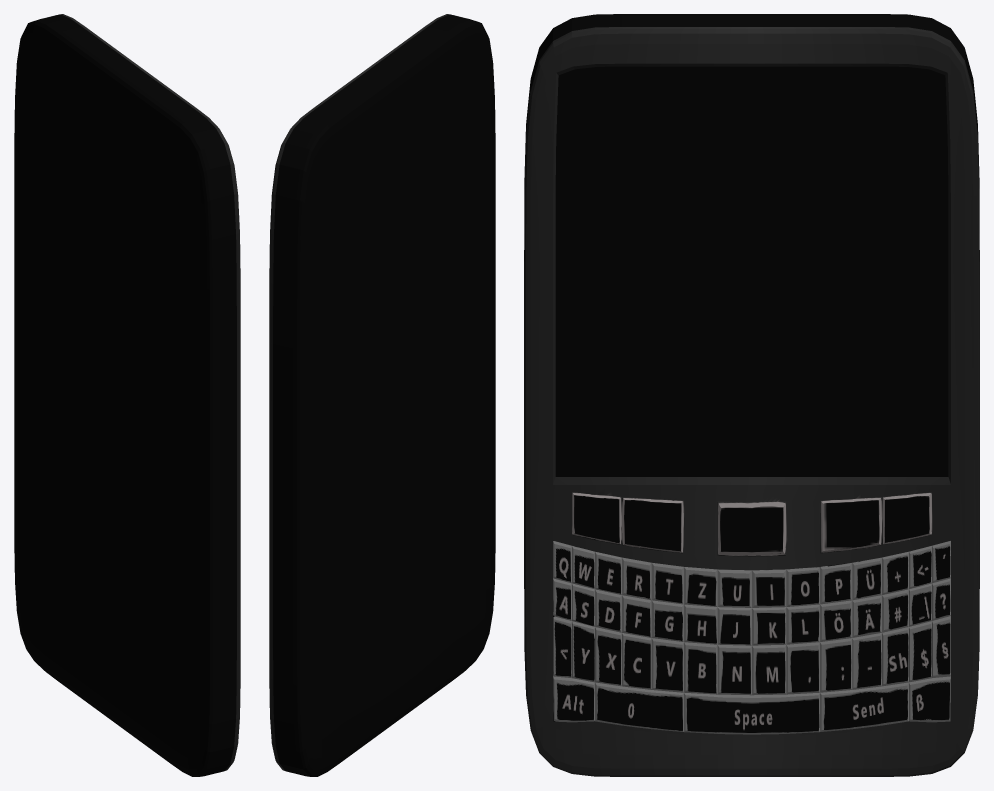
File: Telo.fbx
3 views of the same model, side by side, from view 1: azimuth 30°, elevation 25°; view 2: azimuth 150°, elevation 25°; view 3: azimuth 270°, elevation 25° (orthographic). The views are drawn at different scales.
Parts seen in each view (by area): view 1: Cube; view 2: Cube; view 3: Cube.
Part boxes in pixels (x1,y1,x2,y2): Cube: (14, 14, 240, 776); Cube: (269, 14, 495, 776); Cube: (524, 14, 979, 776).
Bounding box in the file's own units: 1.68 × 29.01 × 16.
1 material, 1 textured.
